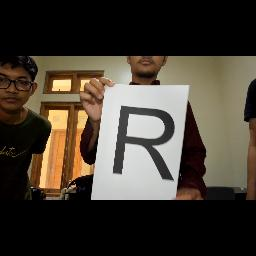r: (113, 102, 179, 188)
